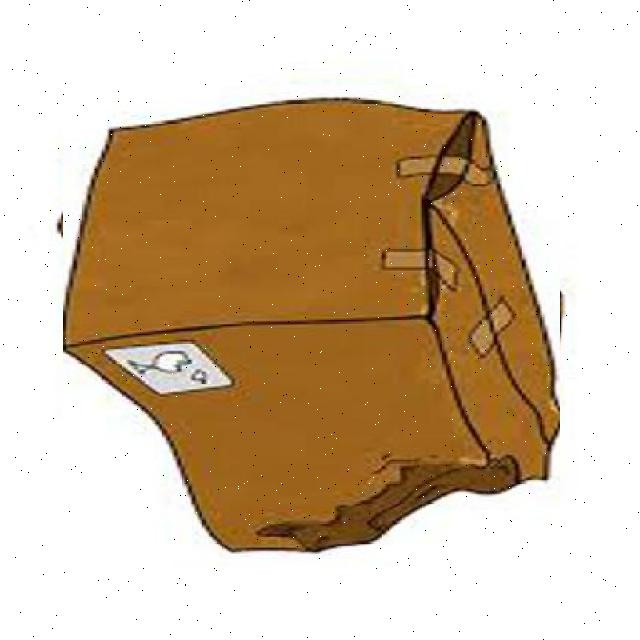defect: (63, 84, 560, 558)
